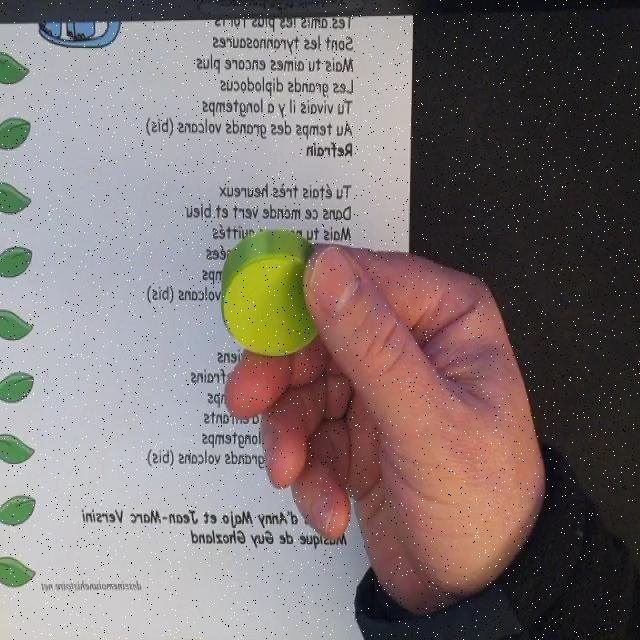round: (220, 229, 336, 356)
